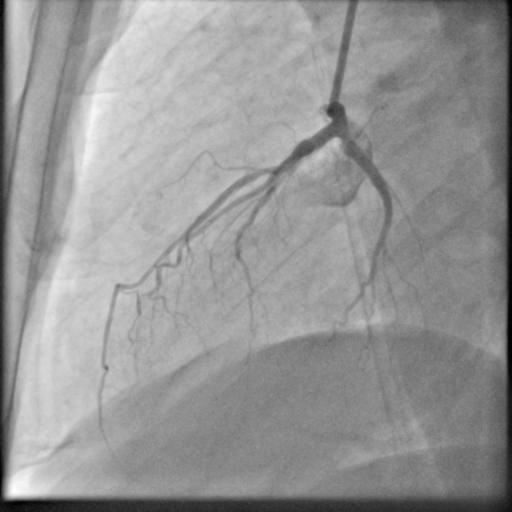Stenosis: (274, 149, 297, 171)
